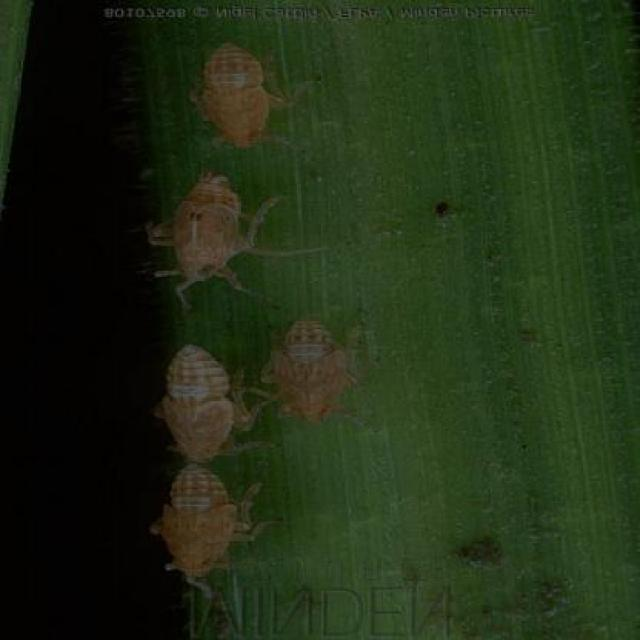brown-planthopper: (153, 172, 264, 292), (256, 316, 376, 427), (186, 38, 299, 151), (145, 343, 246, 460), (146, 466, 252, 576)
